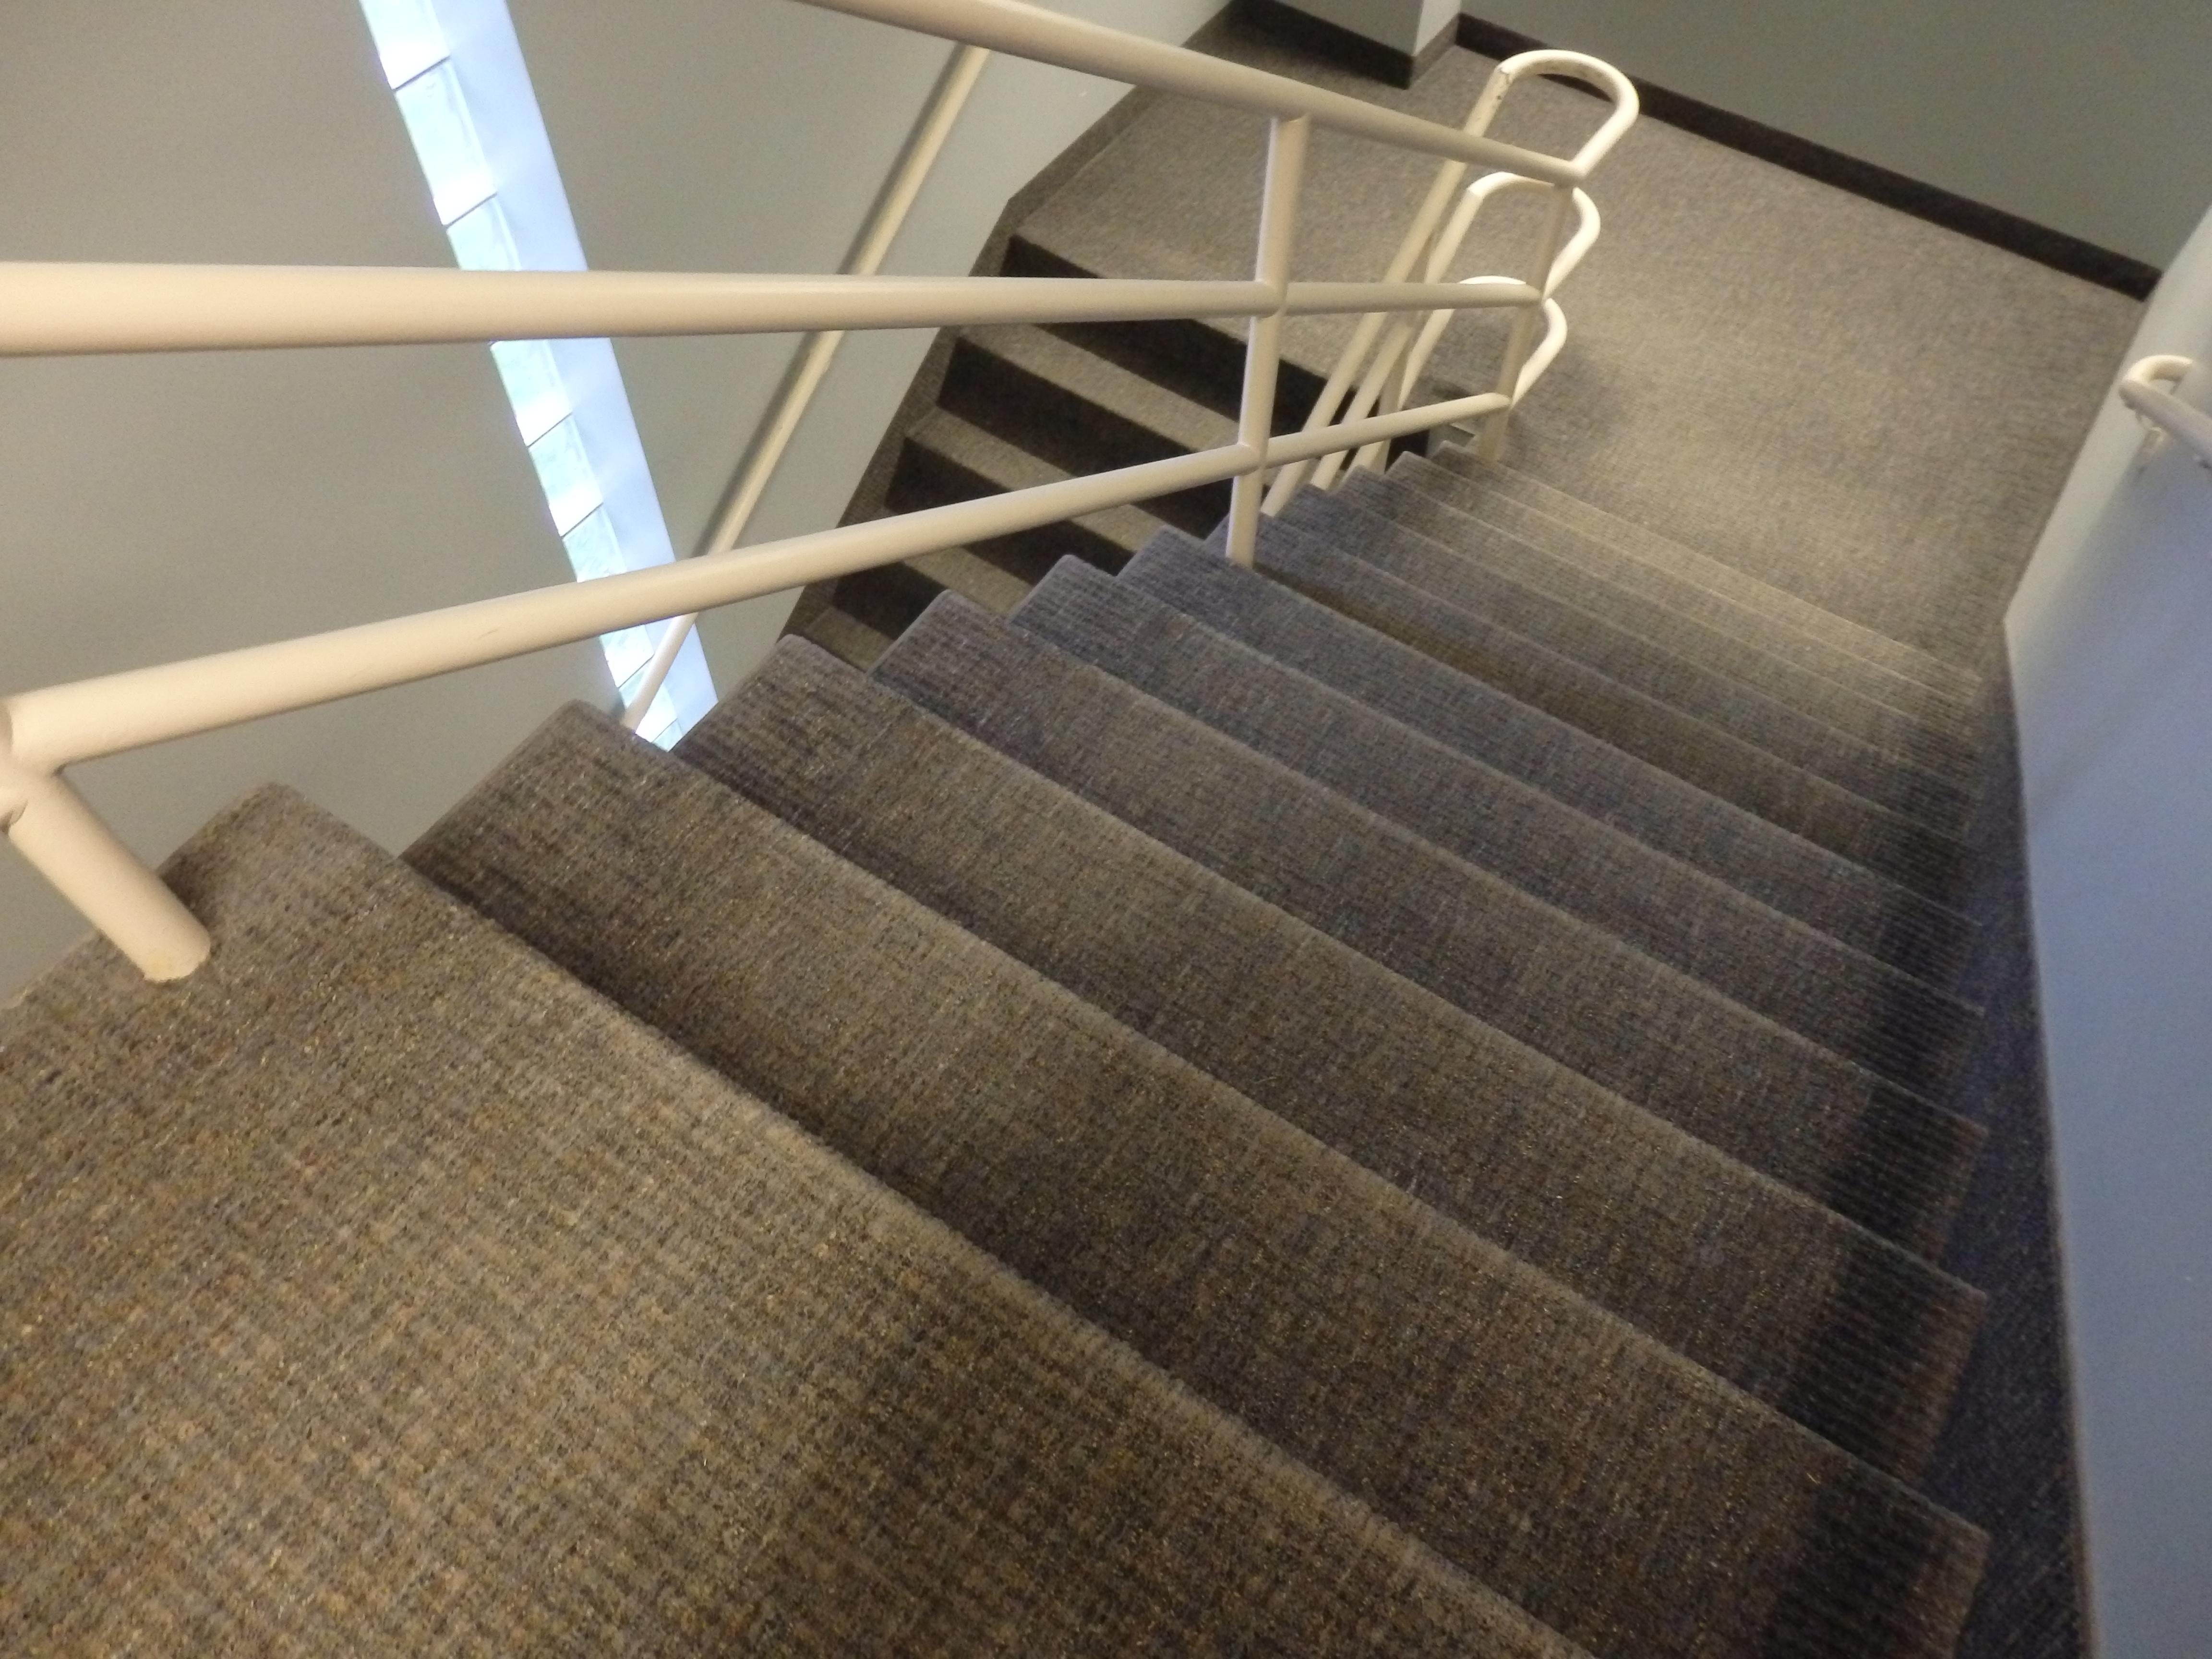stairs_down: (258, 403, 2022, 1502)
